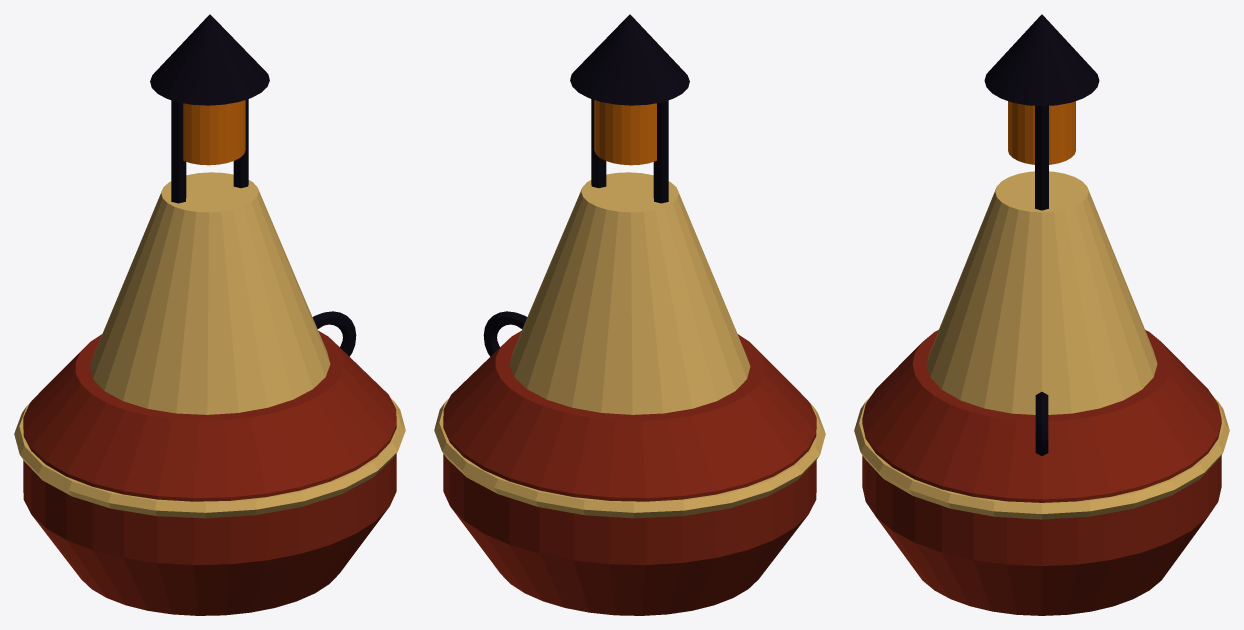
Rendered from harbor_buoy_neon6.fbx.
3 renders of one model, left to right at view 1: azimuth 30°, elevation 25°; view 2: azimuth 150°, elevation 25°; view 3: azimuth 270°, elevation 25°, orthographic.
Parts seen in each view (by area): view 1: Part_0, Part_1, Part_2; view 2: Part_0, Part_1, Part_2; view 3: Part_0, Part_1, Part_2.
Boxes of the visible parts, x1=… form: Part_0: x1=14, y1=321, x2=405, y2=615; Part_1: x1=32, y1=188, x2=388, y2=495; Part_2: x1=150, y1=14, x2=269, y2=212; Part_0: x1=434, y1=321, x2=825, y2=615; Part_1: x1=444, y1=188, x2=813, y2=496; Part_2: x1=570, y1=14, x2=689, y2=212; Part_0: x1=854, y1=343, x2=1229, y2=615; Part_1: x1=893, y1=188, x2=1171, y2=484; Part_2: x1=984, y1=14, x2=1099, y2=212.
Size of the model in its own units: 1.7 by 2.59 by 1.62.
